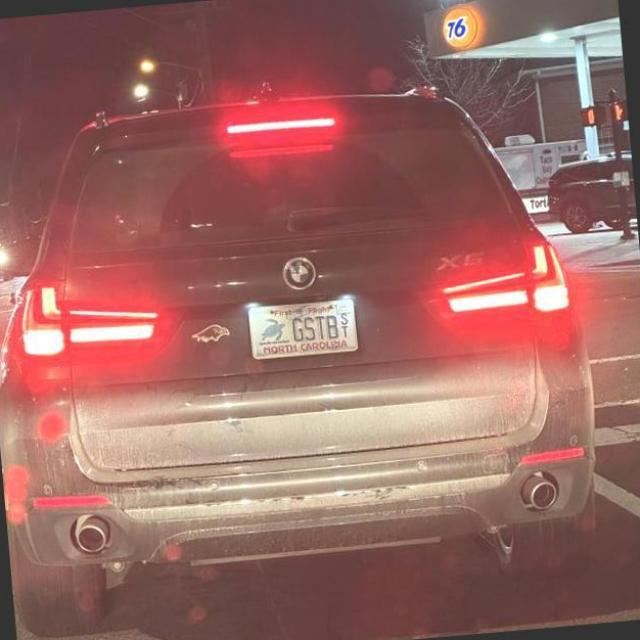license-plate: (252, 287, 358, 358)
